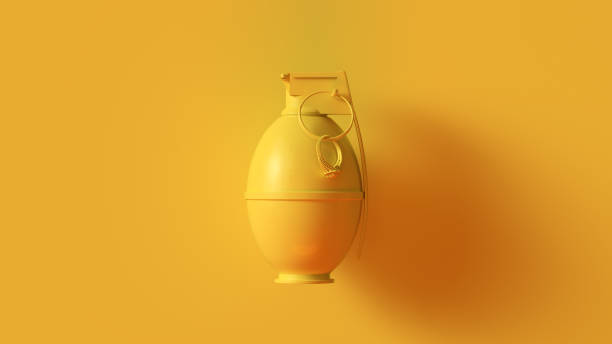e1: (238, 69, 374, 294)
